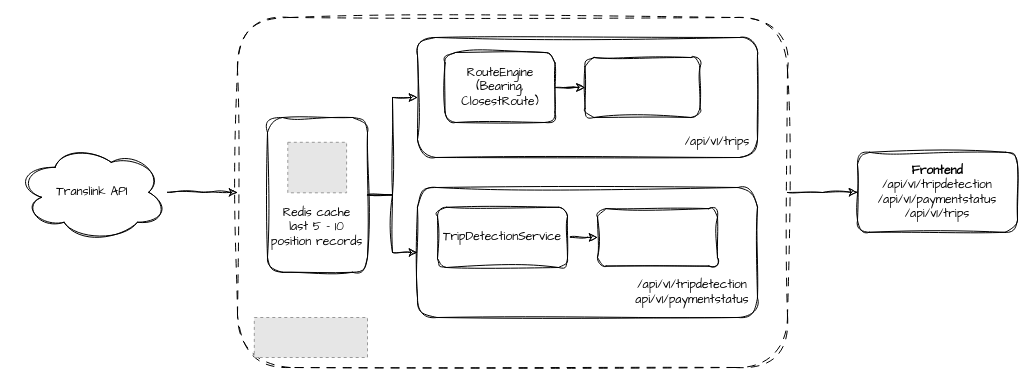
Image size: 1035x385. Some labels were removed from this diagram. Grey dashed boxes stand in for pictures. Here are the shapes that lost their labels. From the top down, the centre of each, then its label:
At (642,87): "DataStore".
At (657,237): "Payment Platforms".
